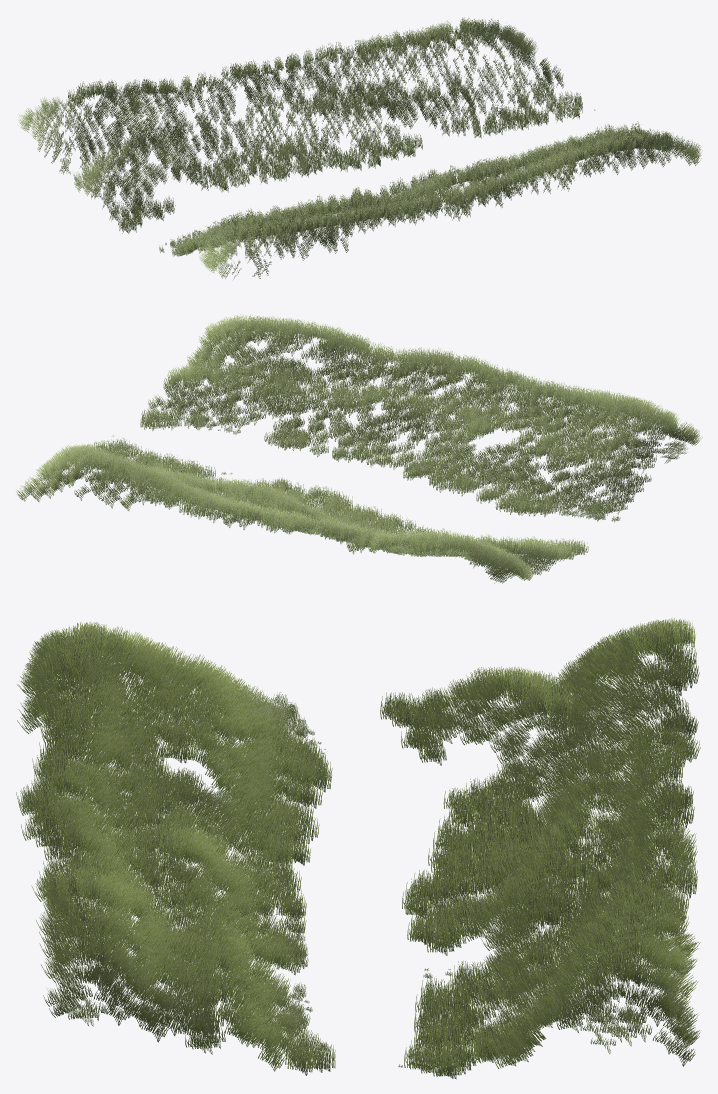
Rendered from LV1_grass.fbx.
3 views of the same model, one above another, from view 1: azimuth 30°, elevation 25°; view 2: azimuth 150°, elevation 25°; view 3: azimuth 270°, elevation 25° (orthographic). The views are drawn at different scales.
Parts seen in each view (by area): view 1: grass_2_0.1063; view 2: grass_2_0.1063; view 3: grass_2_0.1063.
Boxes of the visible parts, x1,y1,x2,y2 form: grass_2_0.1063: (17, 17, 702, 279); grass_2_0.1063: (16, 314, 702, 583); grass_2_0.1063: (16, 618, 700, 1079).
Size of the model in its own units: 3744 by 563 by 2862.
